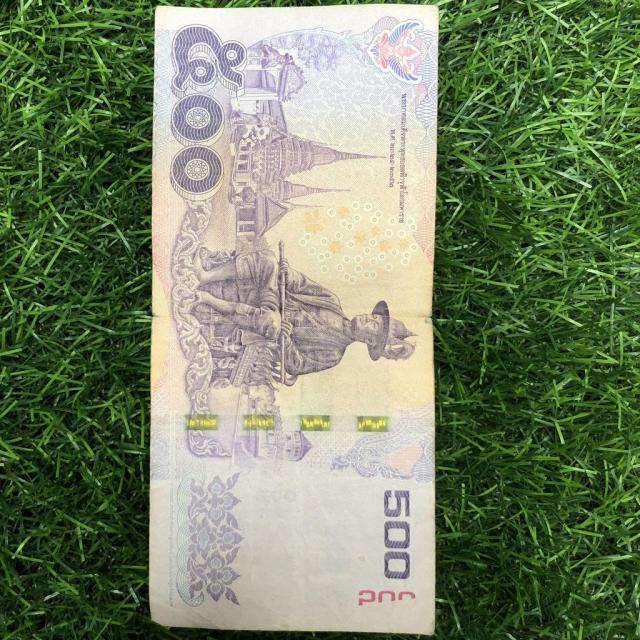THAI500: (146, 4, 440, 639)
